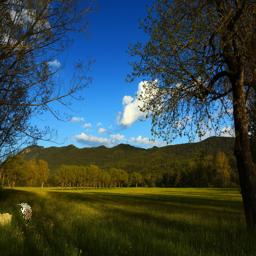Cuckoo: (18, 202, 33, 226)
